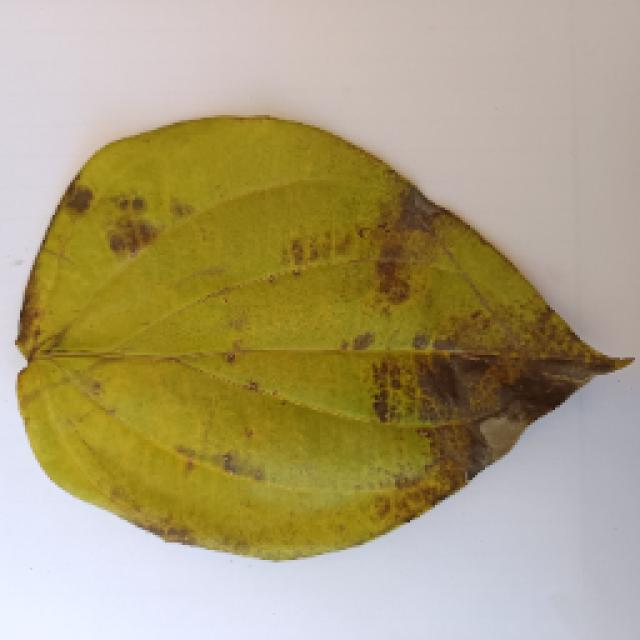slow-decline: (12, 123, 622, 575)
